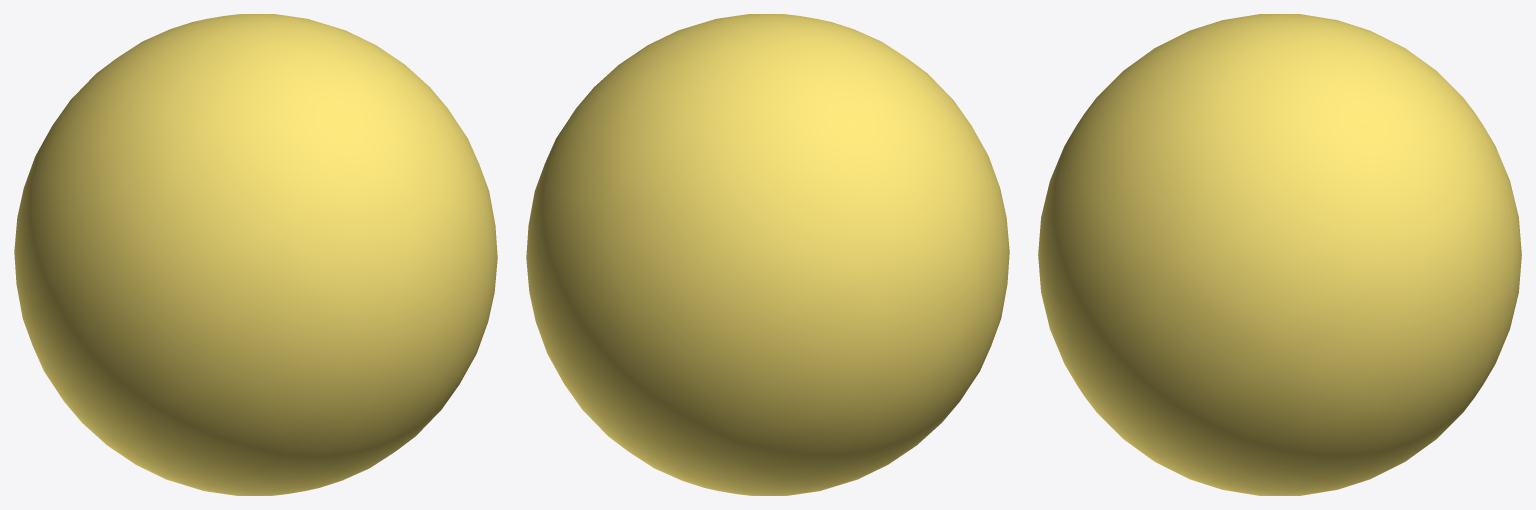
The model's file is s_yellow.glb.
3 views of the same model, side by side, from view 1: azimuth 30°, elevation 25°; view 2: azimuth 150°, elevation 25°; view 3: azimuth 270°, elevation 25° (orthographic).
Parts seen in each view (by area): view 1: sphere; view 2: sphere; view 3: sphere.
Part boxes in pixels (x1=…): sphere: x1=14, y1=14, x2=497, y2=495; sphere: x1=526, y1=14, x2=1009, y2=495; sphere: x1=1038, y1=14, x2=1521, y2=495.
Size of the model in its own units: 0.6 by 0.6 by 0.6.
